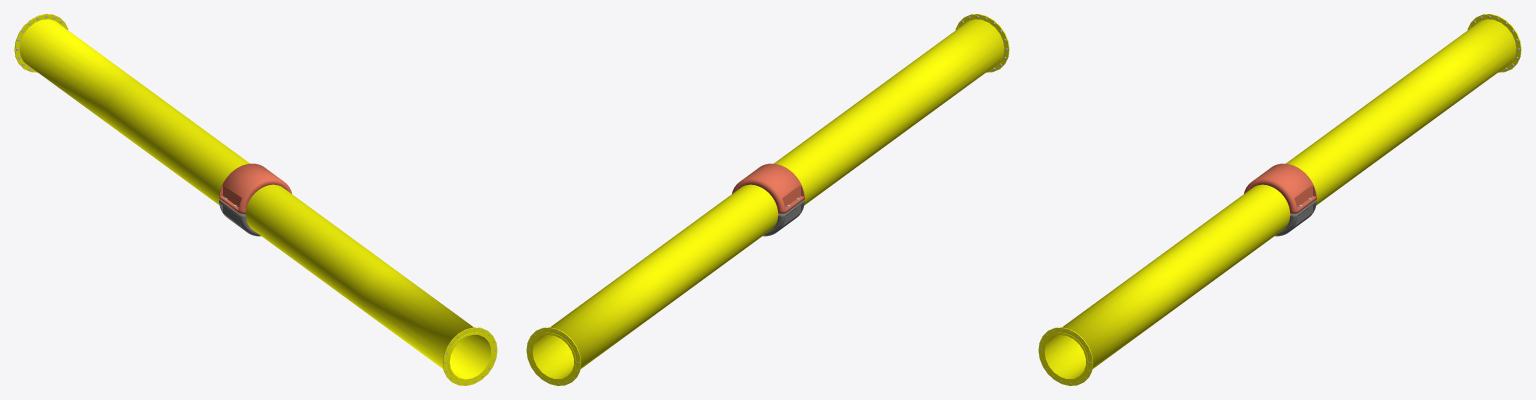
Rendered from anode.dae.
The picture shows the model from 3 angles, left to right: view 1: azimuth 30°, elevation 25°; view 2: azimuth 150°, elevation 25°; view 3: azimuth 330°, elevation 25°; orthographic projection.
Parts seen in each view (by area): view 1: segment5_anode; view 2: segment5_anode; view 3: segment5_anode.
Part boxes in pixels (x1=…): segment5_anode: x1=14, y1=14, x2=497, y2=385; segment5_anode: x1=526, y1=14, x2=1009, y2=385; segment5_anode: x1=1038, y1=14, x2=1521, y2=385.
Size of the model in its own units: 0.7315 by 10 by 0.7315.
